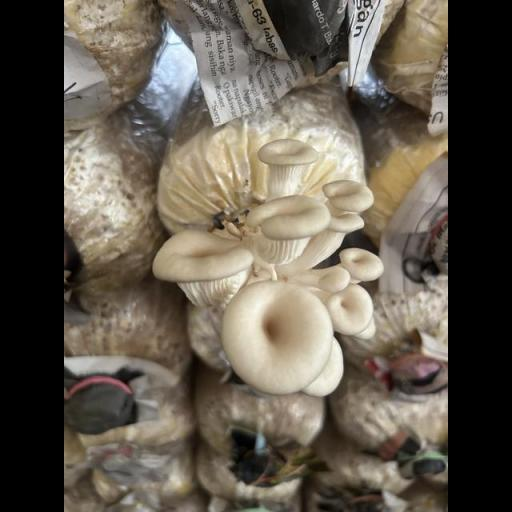White Oyster Mushroom: (141, 123, 392, 413)
